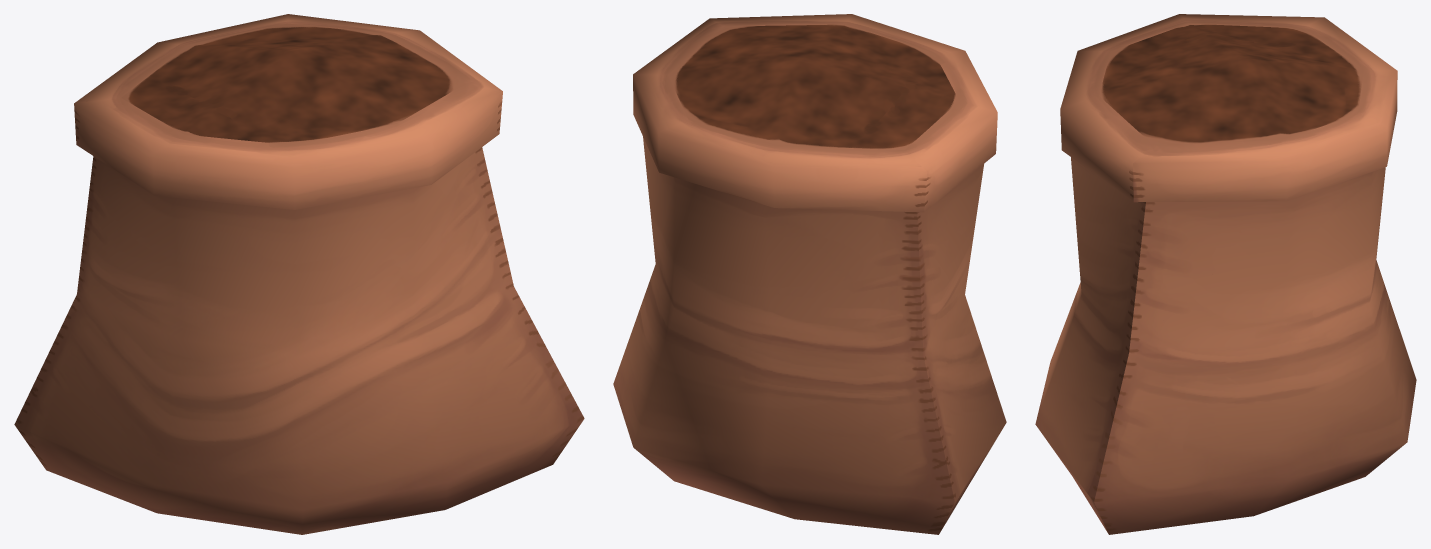
The model's file is Udobrenije big.fbx.
3 views of the same model, side by side, from view 1: azimuth 30°, elevation 25°; view 2: azimuth 150°, elevation 25°; view 3: azimuth 270°, elevation 25° (orthographic). The views are drawn at different scales.
Visible parts, largest first — view 1: Udobrenije Big; view 2: Udobrenije Big; view 3: Udobrenije Big.
Boxes of the visible parts, bbox=[...] form: Udobrenije Big: bbox=[14, 14, 584, 534]; Udobrenije Big: bbox=[613, 14, 1006, 534]; Udobrenije Big: bbox=[1035, 14, 1416, 534].
Size of the model in its own units: 25 by 22.89 by 20.08.
